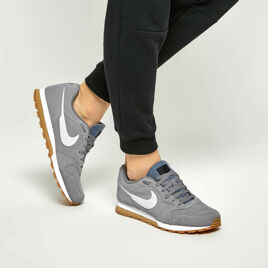nike: (58, 89, 82, 146), (126, 188, 159, 210)
